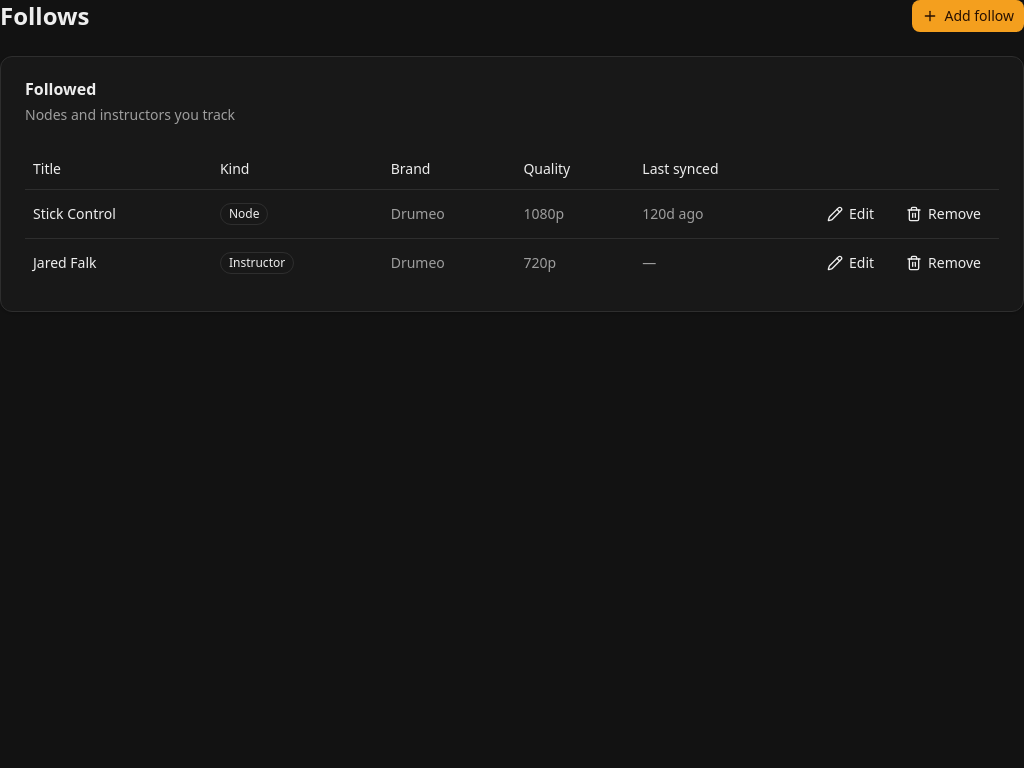
Test: edits a follow's quality via PATCH /api/follows/{id}, shows a toast, and invalidates the follows list
This screenshot has width=1024, height=768.
// Open the Edit dialog for the first follow (after the initial list load).
Click the button named "edit stick control" at point(851, 214), box [817,198,884,230]
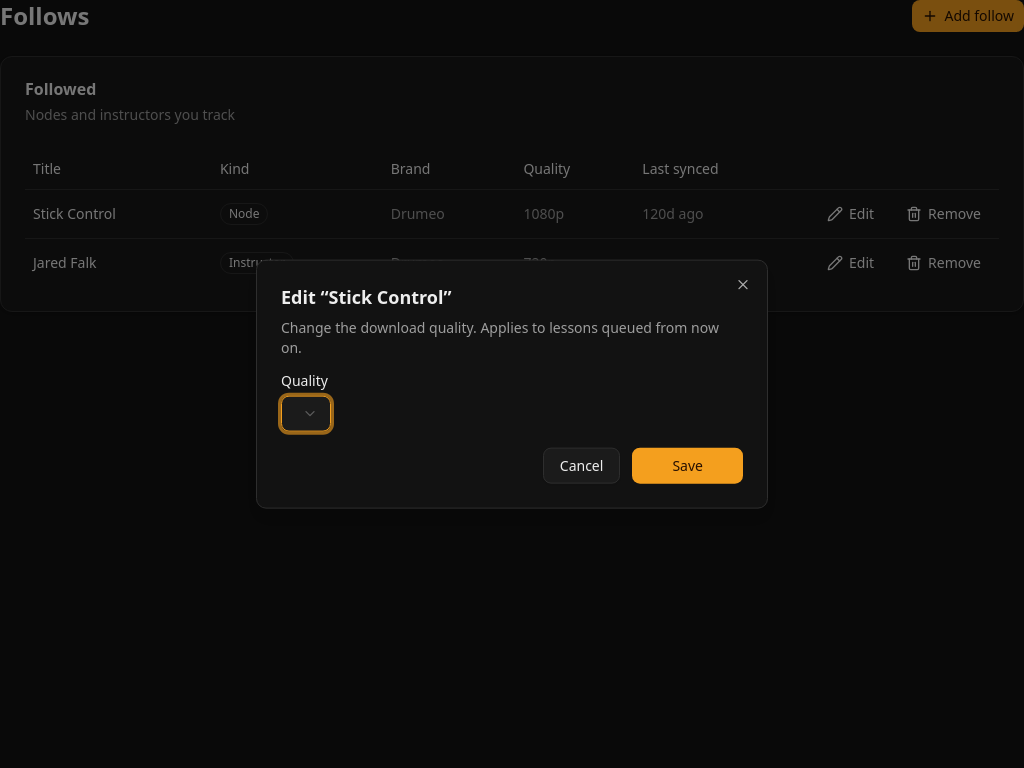
// Pick 720 from the quality Select, then Save.
Click the dropdown named "quality" at point(306, 413), box [281,395,331,431]
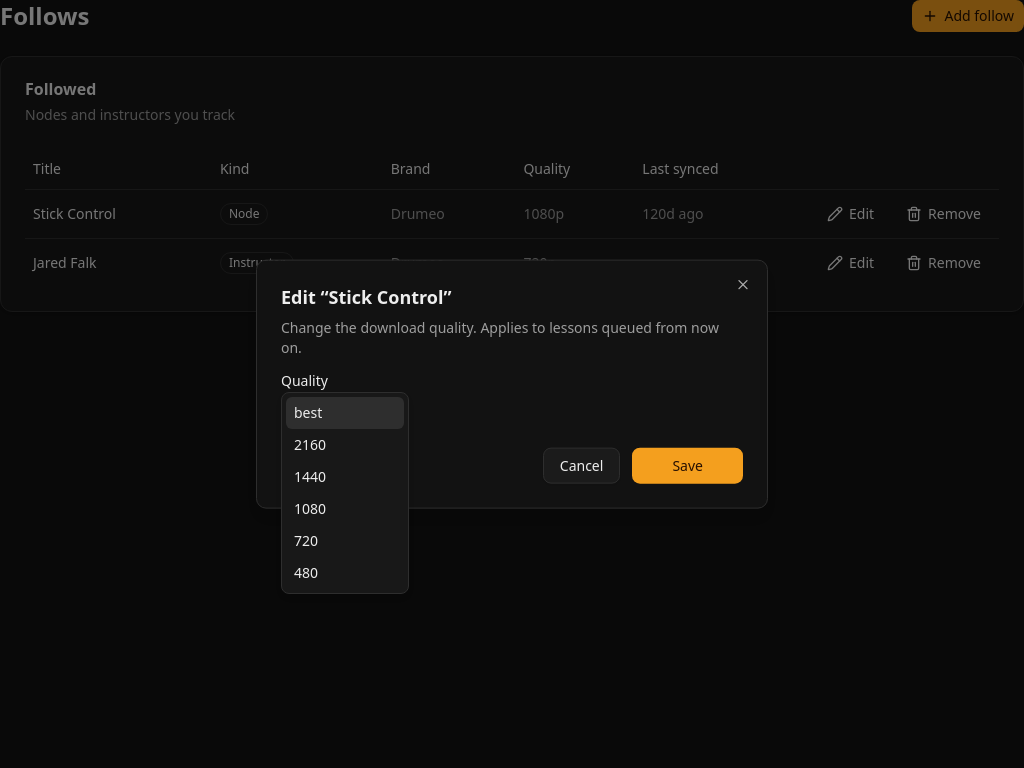
Click the option "720" at point(306, 541), box [294,531,318,550]
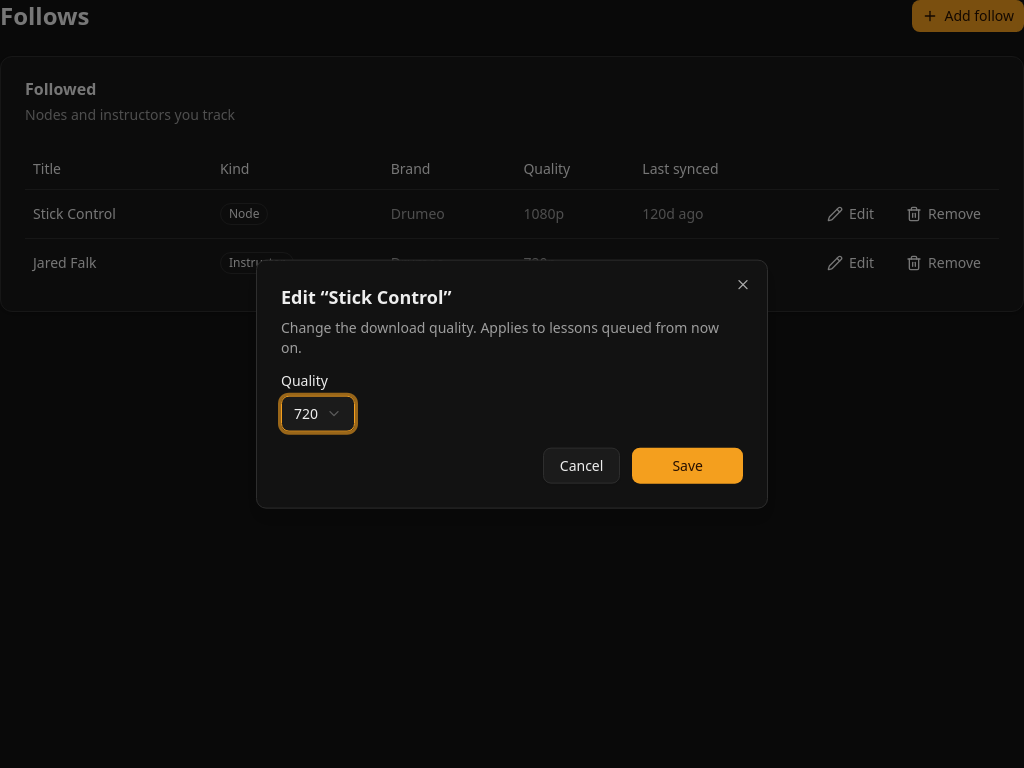
Click the button "Save" at point(688, 465), box [632,447,743,483]
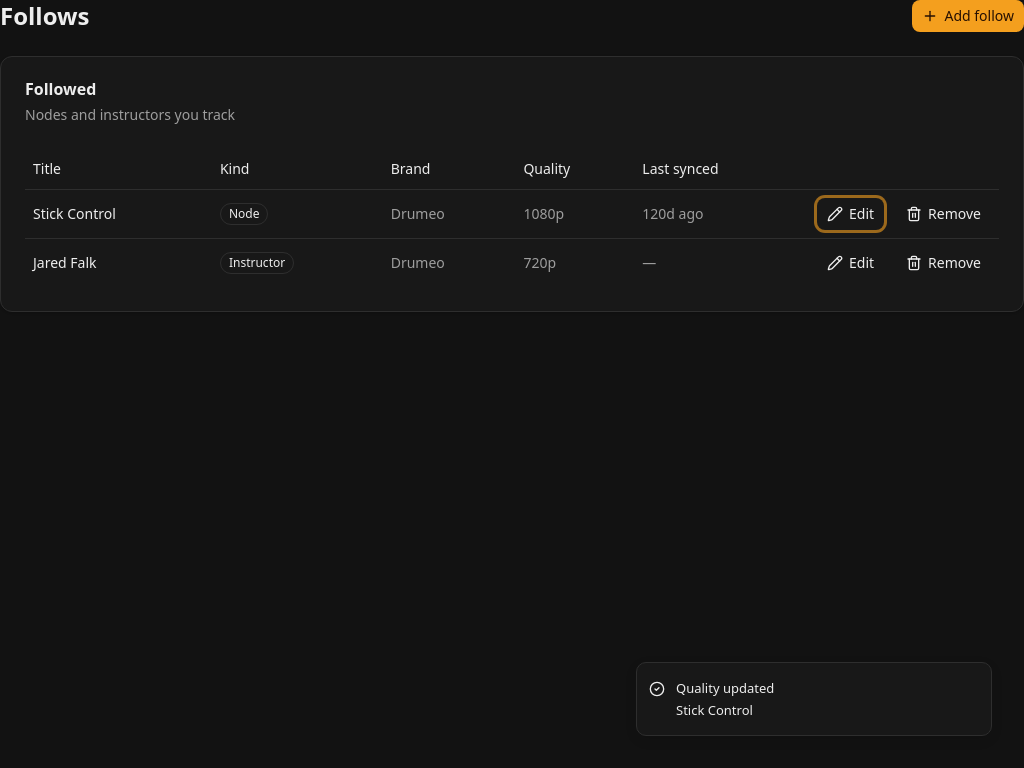
Result: the text "Quality updated" is shown at [676,679,774,699]
